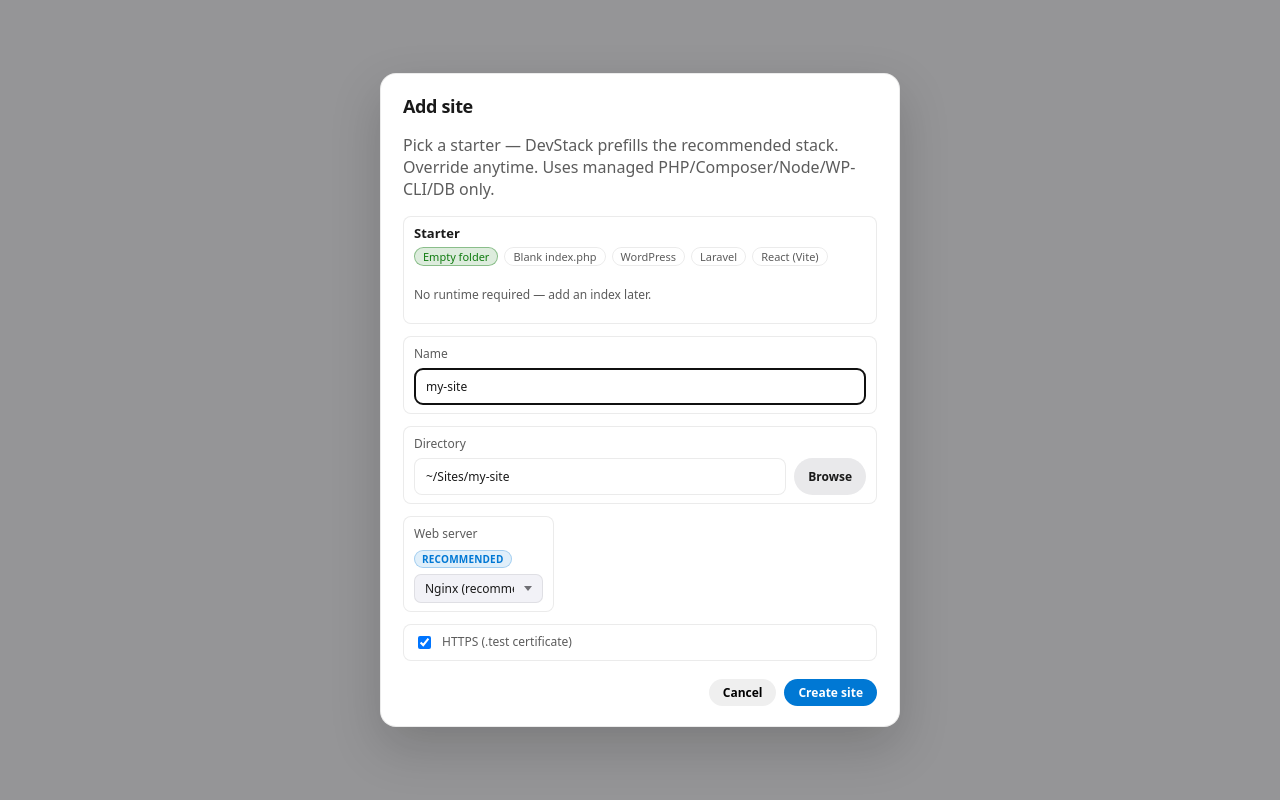
Scenario: AddSiteModal recommended stack › prefills React with Node and no PHP/DB, warns on low Node
What coordinates should you click on to do the following:
click the radio button with test id "starter-react"
I would click on:
 (790, 257)
Its box is [752,247,828,266].
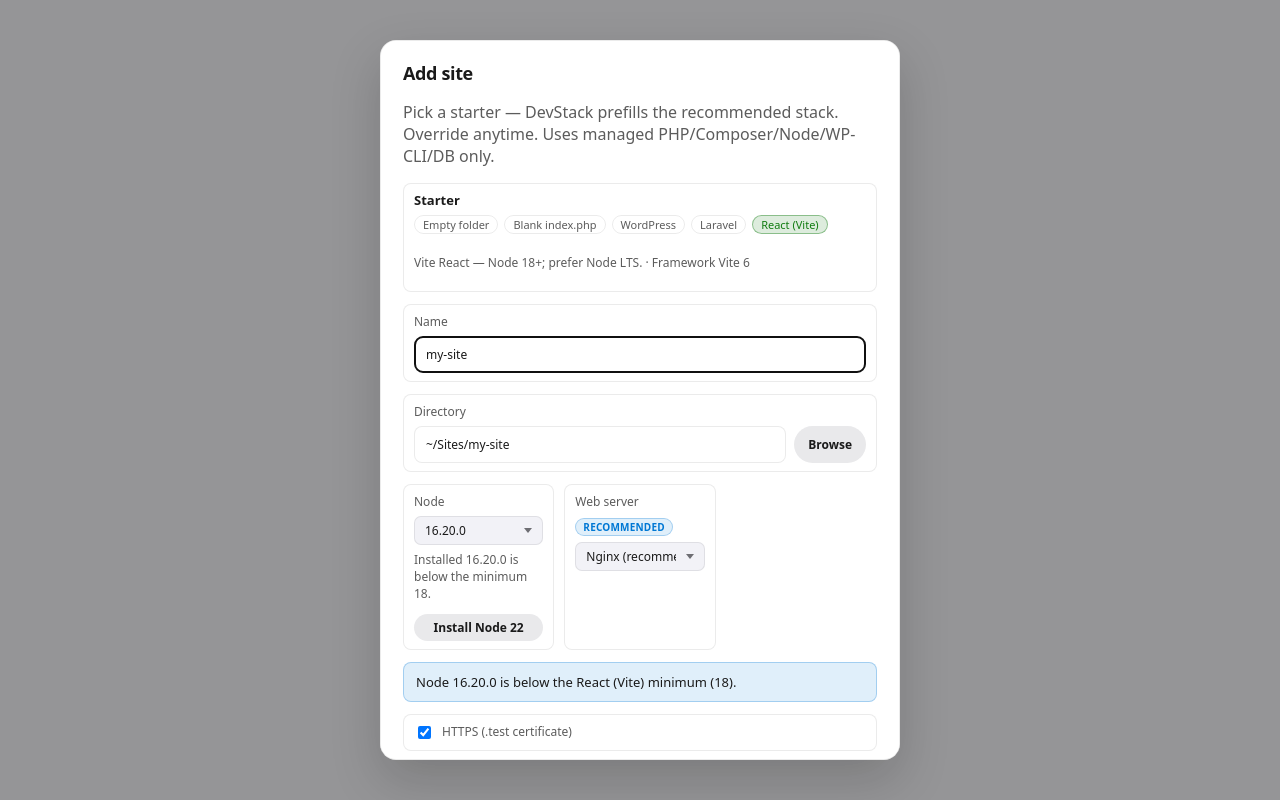
Expected: the dropdown with test id "select-node" is shown, [414,516,543,545]
Expected: the message with test id "starter-compat-warning" shows "below the React (Vite) minimum", [416,673,736,691]
